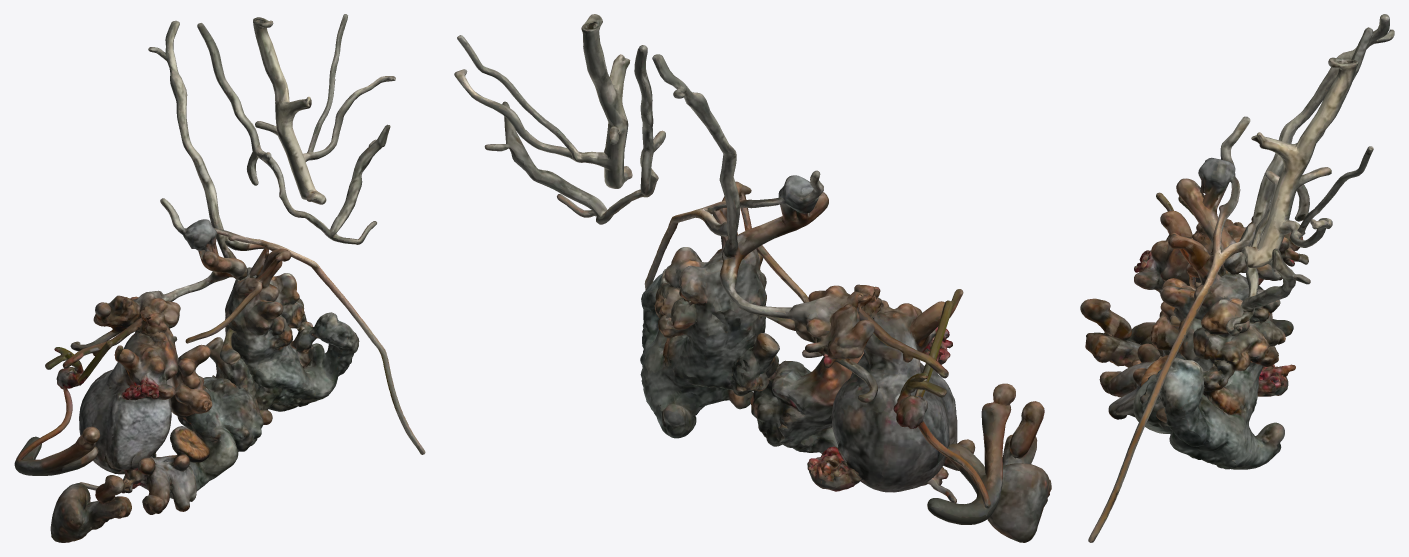
Rendered from pine-cone-v12.glb.
3 views of the same model, side by side, from view 1: azimuth 30°, elevation 25°; view 2: azimuth 150°, elevation 25°; view 3: azimuth 270°, elevation 25° (orthographic). The views are drawn at different scales.
Visible parts, largest first — view 1: geometry_0; view 2: geometry_0; view 3: geometry_0.
Part boxes in pixels (x1,y1,x2,y2): geometry_0: (14, 14, 425, 542); geometry_0: (454, 14, 1051, 542); geometry_0: (1080, 14, 1394, 542).
Bounding box in the file's own units: 0.85 × 0.8144 × 0.4744.
Materials: 1 (1 with a texture image).
